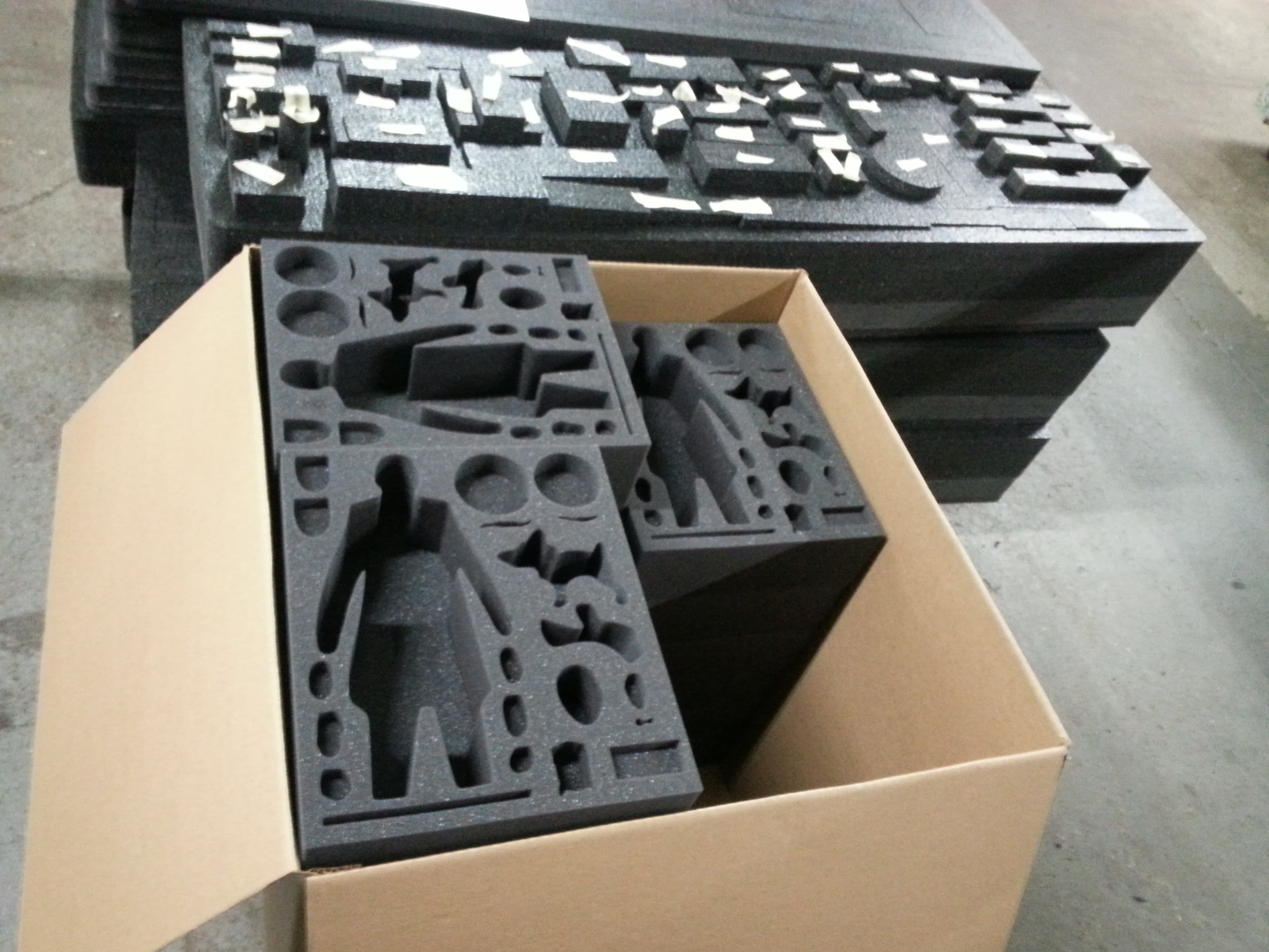Boxes: (258, 240, 884, 867)
